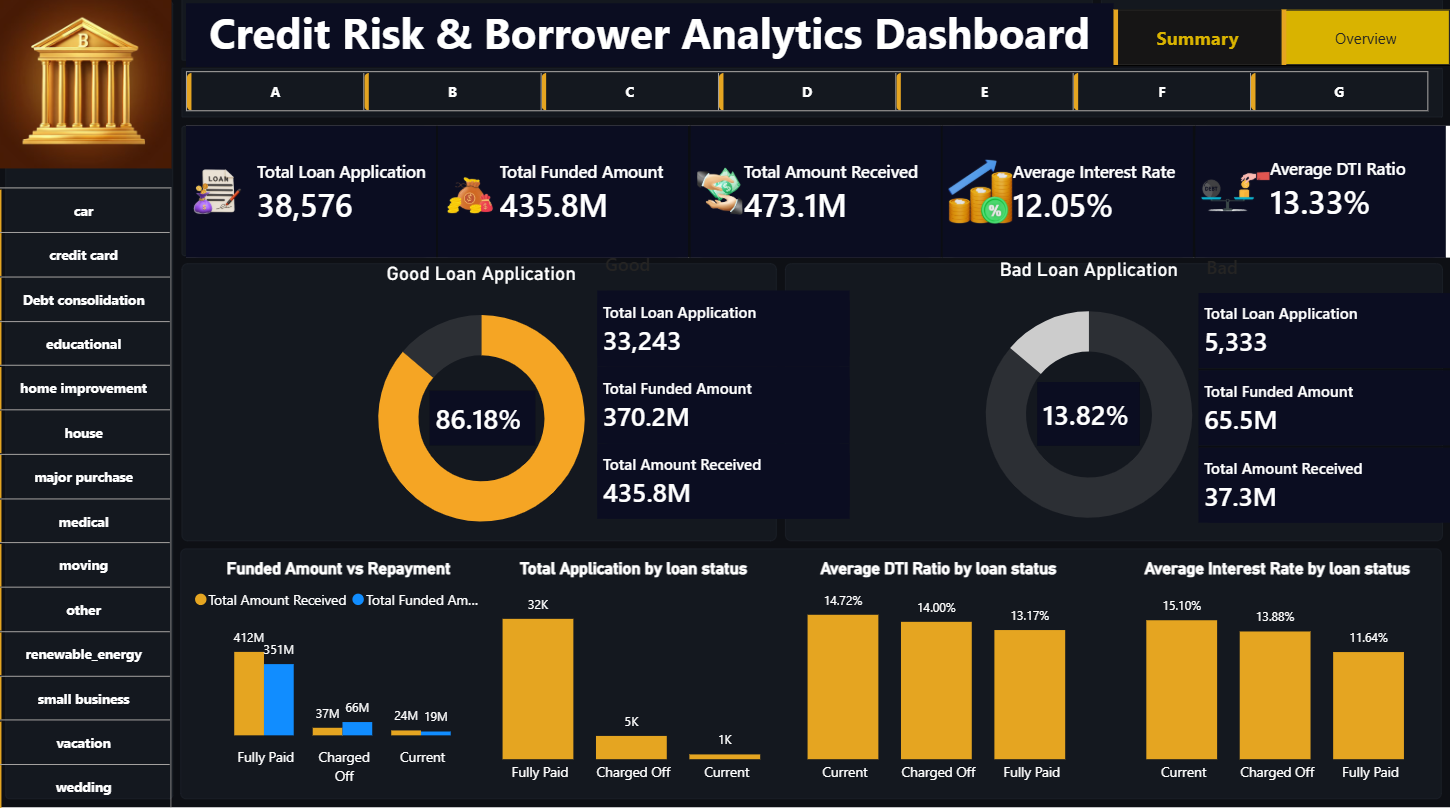

The dashboard page shown, as its layout file describes it:
{"tool":"powerbi","page":{"name":"Summary","canvas":[1280,720],"ordinal":0},"visuals":[{"type":"cardVisual","fields":{"Data":["financial_loan.Total Loan Application","financial_loan.Total Funded Amount","financial_loan.Total Amount Received"],"Rows":["financial_loan.Good_vs_Bad_Loan"]},"box":[529.1,194.2,222.1,291.9],"z":0},{"type":"donutChart","title":"Good Loan Application","fields":{"Category":["financial_loan.Good_vs_Bad_Loan"],"Y":["financial_loan.Total Loan Application"]},"box":[167.4,237.2,519.8,251.2],"z":1000},{"type":"donutChart","title":"Bad Loan Application","fields":{"Category":["financial_loan.Good_vs_Bad_Loan"],"Y":["financial_loan.Total Loan Application"]},"box":[701.2,233.7,519.8,251.2],"z":2000},{"type":"cardVisual","fields":{"Data":["financial_loan.Good Loan %"]},"box":[381.4,351.2,93,48.8],"z":3000},{"type":"cardVisual","fields":{"Data":["financial_loan.Bad Loan %"]},"box":[916.3,343,90.7,57],"z":4000},{"type":"cardVisual","fields":{"Data":["financial_loan.Total Loan Application","financial_loan.Total Funded Amount","financial_loan.Total Amount Received","financial_loan.Average INT Rate","financial_loan.Average DTI RAte"]},"box":[167.2,117.4,1112.8,116.3],"z":5000},{"type":"cardVisual","fields":{"Data":["financial_loan.Total Loan Application","financial_loan.Total Funded Amount","financial_loan.Total Amount Received"],"Rows":["financial_loan.Good_vs_Bad_Loan"]},"box":[1058.1,196.5,222.1,291.9],"z":6000},{"type":"clusteredColumnChart","title":"Funded Amount vs Repayment","fields":{"Category":["financial_loan.LOAN_STATUS"],"Y":["financial_loan.Total Amount Received","financial_loan.Total Funded Amount"]},"box":[167.4,497.7,268.6,207],"z":7000},{"type":"clusteredColumnChart","title":"Total Application by loan status","fields":{"Category":["financial_loan.LOAN_STATUS"],"Y":["financial_loan.Total Loan Application"]},"box":[408.1,497.7,305.8,207],"z":8000},{"type":"clusteredColumnChart","title":"Average DTI Ratio by loan status","fields":{"Category":["financial_loan.LOAN_STATUS"],"Y":["financial_loan.Average DTI Ratio"]},"box":[676.7,497.7,305.8,207],"z":9000},{"type":"clusteredColumnChart","title":"Average Interest Rate by loan status","fields":{"Category":["financial_loan.LOAN_STATUS"],"Y":["financial_loan.Average Interest Rate"]},"box":[974.4,497.7,305.8,207],"z":10000},{"type":"image","box":[0,0,154.7,155.8],"z":11000},{"type":"advancedSlicerVisual","fields":{"Values":["financial_loan.PURPOSE"]},"box":[0,167.4,154.7,552.3],"z":12000},{"type":"advancedSlicerVisual","fields":{"Values":["financial_loan.GRADE"]},"box":[167.4,65.1,1097.7,40.7],"z":13000},{"type":"textbox","box":[167,9.7,815.9,55.7],"z":14000},{"type":"pageNavigator","box":[982.9,15.7,296.6,49.6],"z":15000}]}

Visuals, with their boxes in screenshot pixels (x1, y1, x2, y2), scaled from the page's 1280x720 canvas onto the 1450x808 screenshot:
cardVisual - financial_loan.Total Loan Application x financial_loan.Total Funded Amount: bbox(599, 218, 851, 546)
"Good Loan Application" donutChart: bbox(190, 266, 778, 548)
"Bad Loan Application" donutChart: bbox(794, 262, 1383, 544)
cardVisual - financial_loan.Good Loan %: bbox(432, 394, 537, 449)
cardVisual - financial_loan.Bad Loan %: bbox(1038, 385, 1141, 449)
cardVisual - financial_loan.Total Loan Application x financial_loan.Total Funded Amount: bbox(189, 132, 1449, 262)
cardVisual - financial_loan.Total Loan Application x financial_loan.Total Funded Amount: bbox(1199, 221, 1449, 548)
"Funded Amount vs Repayment" clusteredColumnChart: bbox(190, 559, 494, 791)
"Total Application by loan status" clusteredColumnChart: bbox(462, 559, 809, 791)
"Average DTI Ratio by loan status" clusteredColumnChart: bbox(767, 559, 1113, 791)
"Average Interest Rate by loan status" clusteredColumnChart: bbox(1104, 559, 1449, 791)
image: bbox(0, 0, 175, 175)
advancedSlicerVisual - financial_loan.PURPOSE: bbox(0, 188, 175, 807)
advancedSlicerVisual - financial_loan.GRADE: bbox(190, 73, 1433, 119)
textbox: bbox(189, 11, 1113, 73)
pageNavigator: bbox(1113, 18, 1449, 73)
